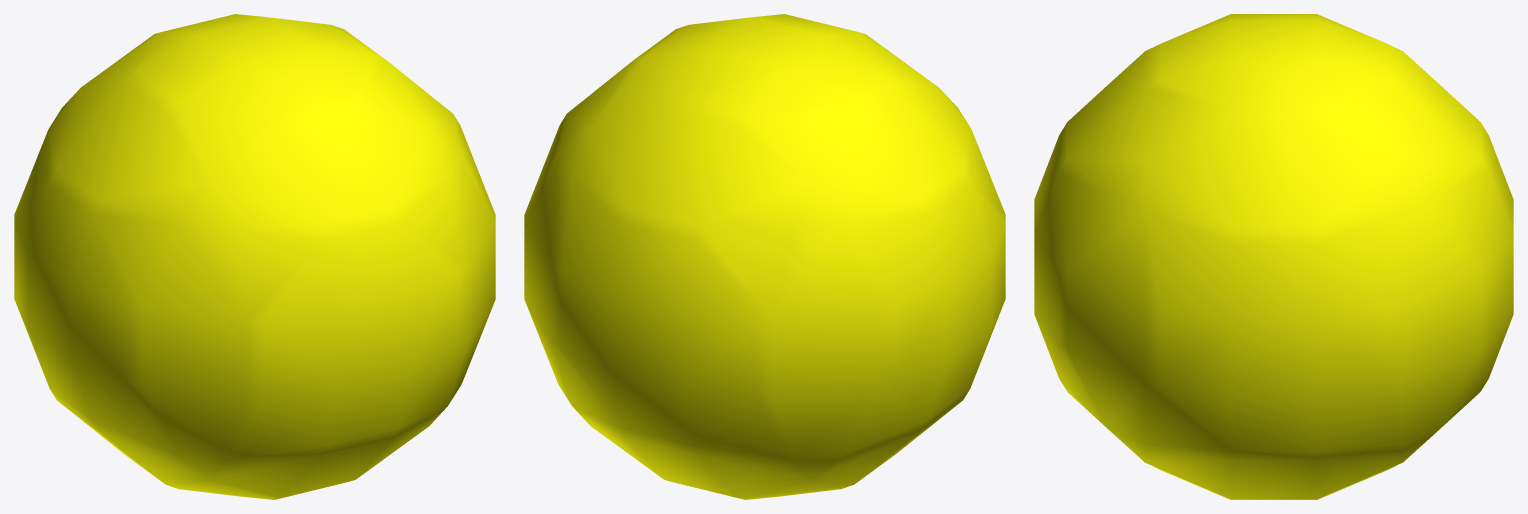
The model's file is orb.gltf.
The picture shows the model from 3 angles, left to right: view 1: azimuth 30°, elevation 25°; view 2: azimuth 150°, elevation 25°; view 3: azimuth 270°, elevation 25°; orthographic projection.
Parts seen in each view (by area): view 1: Mball.001_Mesh.002; view 2: Mball.001_Mesh.002; view 3: Mball.001_Mesh.002.
Part boxes in pixels (<box>): Mball.001_Mesh.002: <box>14,14,495,499</box>; Mball.001_Mesh.002: <box>524,14,1005,499</box>; Mball.001_Mesh.002: <box>1034,14,1513,499</box>.
Size of the model in its own units: 2.23 by 2.23 by 2.23.
Materials: 1 (1 with a texture image).
